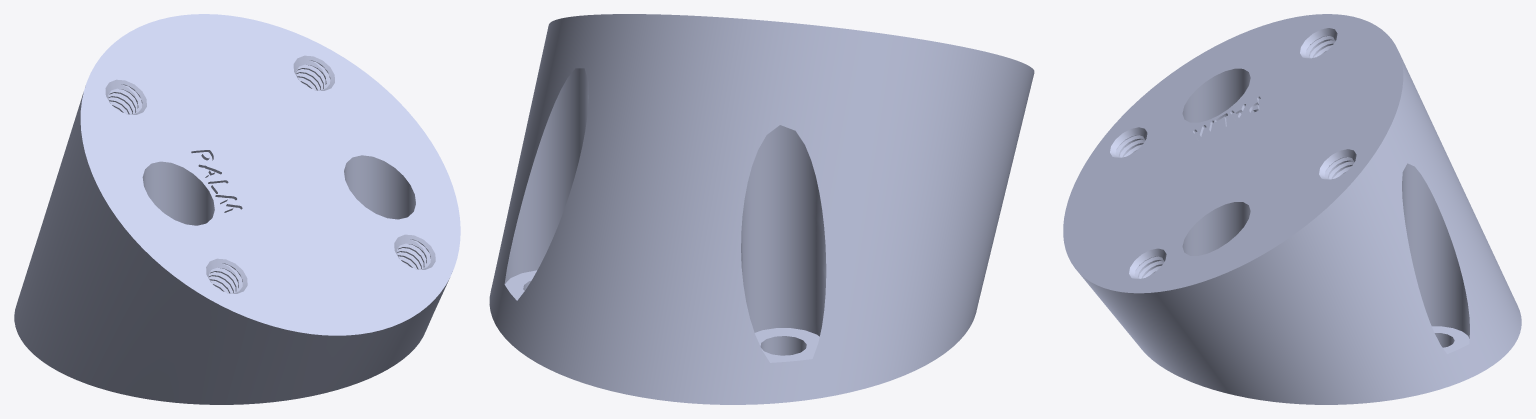
The model's file is Wuji_AngledMounted_30_10_Left.glb.
3 renders of one model, left to right at view 1: azimuth 30°, elevation 25°; view 2: azimuth 150°, elevation 25°; view 3: azimuth 270°, elevation 25°, orthographic. The views are drawn at different scales.
Visible parts, largest first — view 1: sw2urdf_d2f7001b-8531-4a3c-be43-f7b8c365769f; view 2: sw2urdf_d2f7001b-8531-4a3c-be43-f7b8c365769f; view 3: sw2urdf_d2f7001b-8531-4a3c-be43-f7b8c365769f.
Part boxes in pixels (x1,y1,x2,y2): sw2urdf_d2f7001b-8531-4a3c-be43-f7b8c365769f: [14, 14, 460, 404]; sw2urdf_d2f7001b-8531-4a3c-be43-f7b8c365769f: [489, 14, 1034, 404]; sw2urdf_d2f7001b-8531-4a3c-be43-f7b8c365769f: [1063, 14, 1521, 404].
Size of the model in its own units: 0.063 by 0.0464 by 0.0739.
